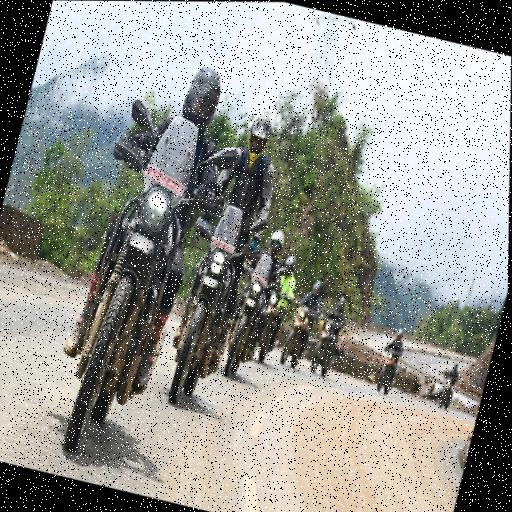Helmet: (168, 56, 236, 133), (238, 110, 282, 166), (262, 223, 293, 261), (278, 250, 300, 278), (330, 290, 352, 316), (307, 279, 326, 303), (391, 324, 409, 345), (450, 360, 464, 373)
Motor: (30, 107, 221, 469), (152, 201, 269, 407), (211, 258, 283, 386), (304, 314, 355, 383), (275, 300, 322, 368), (370, 348, 408, 396), (434, 376, 462, 406)
